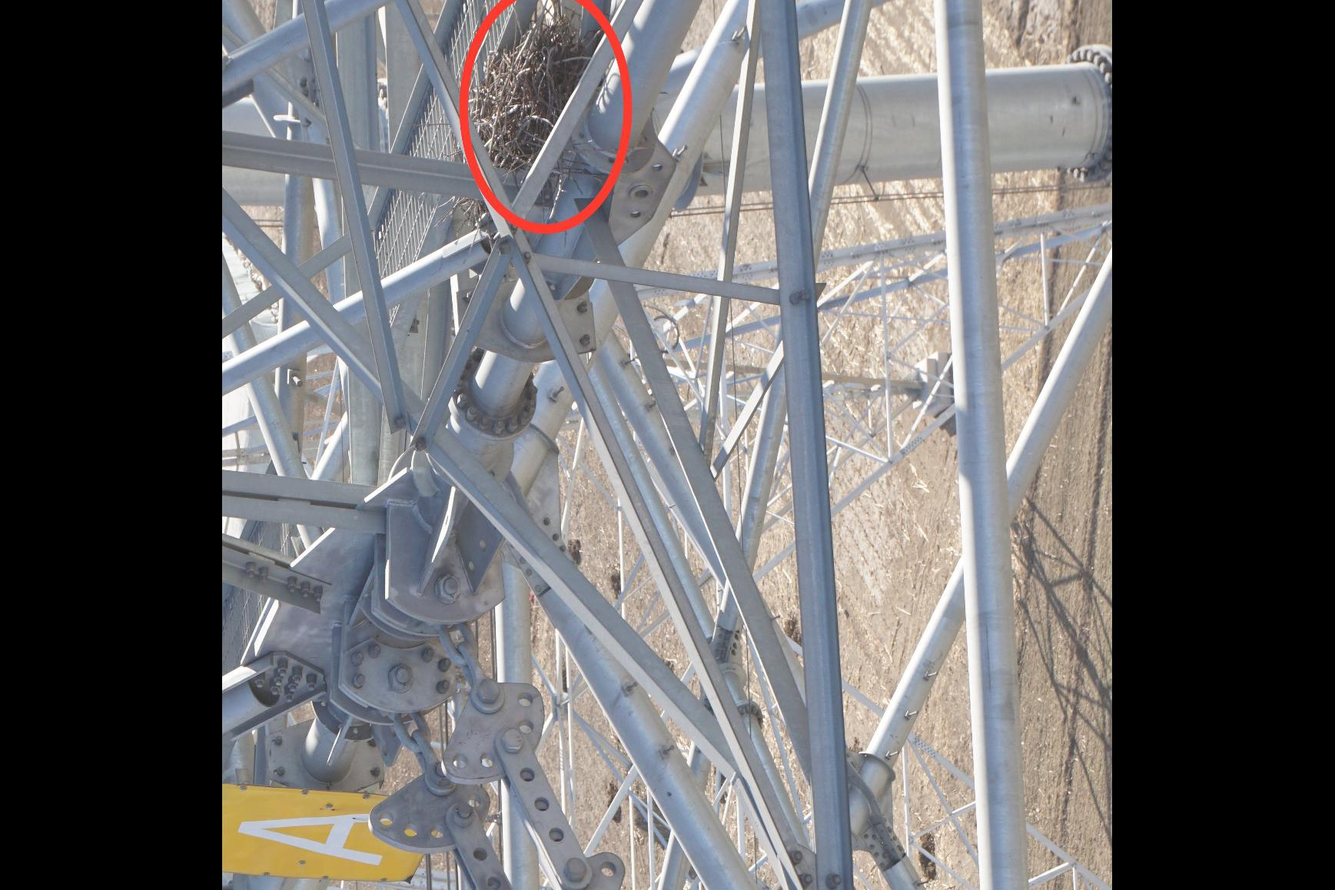nest: (461, 1, 613, 184)
